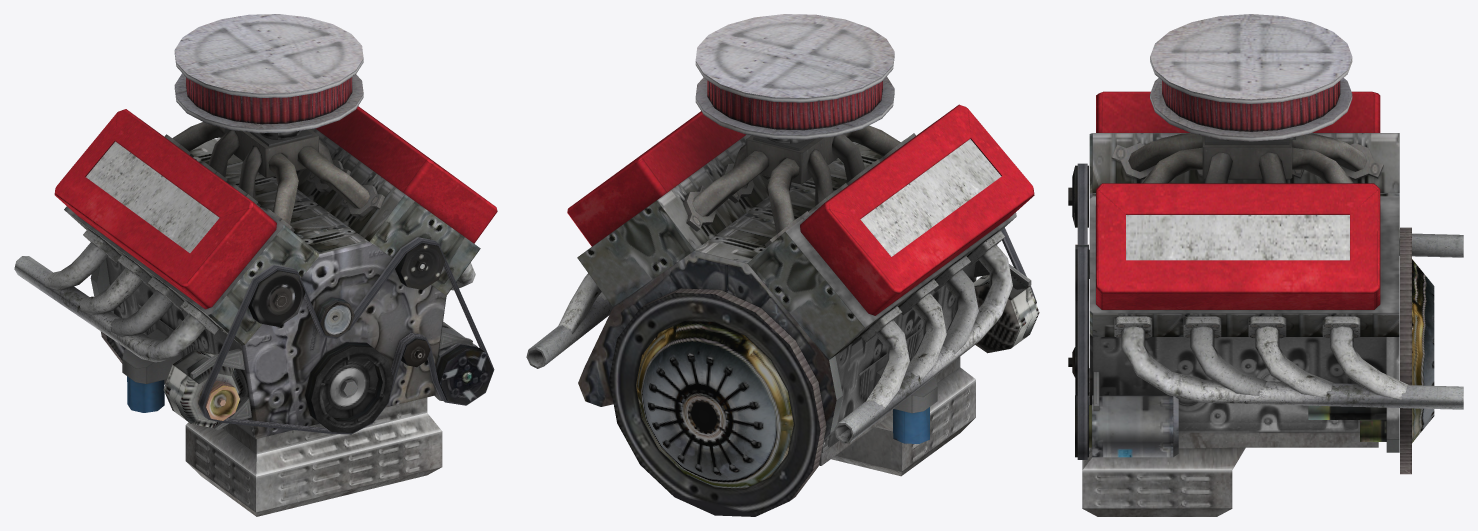
The model's file is car_engine.dae.
The picture shows the model from 3 angles, left to right: view 1: azimuth 30°, elevation 25°; view 2: azimuth 150°, elevation 25°; view 3: azimuth 270°, elevation 25°; orthographic projection. The views are drawn at different scales.
Visible parts, largest first — view 1: engine, belt1; view 2: engine; view 3: engine, belt1.
Boxes of the visible parts, box(x1,y1,x2,y2) form: engine: box(14, 14, 497, 516); belt1: box(198, 237, 494, 434); engine: box(526, 14, 1039, 516); engine: box(1068, 14, 1463, 516); belt1: box(1077, 163, 1087, 459).
Bounding box in the file's own units: 3.28 × 3.84 × 3.31.
